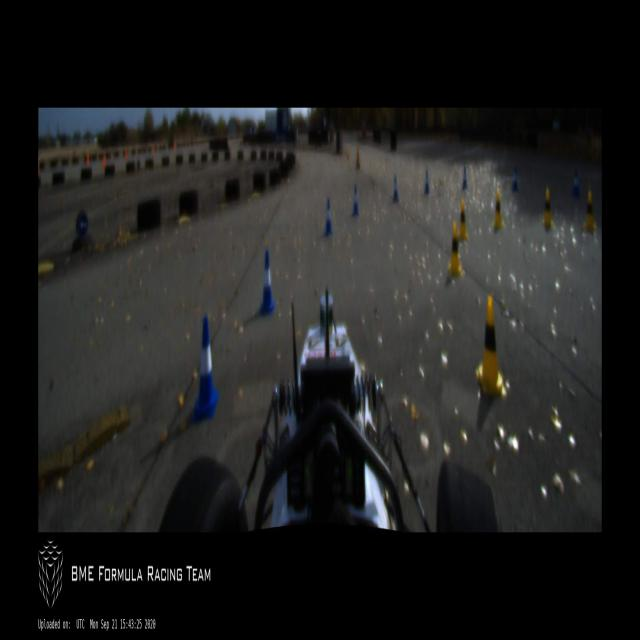blue_cone: (191, 314, 219, 421), (258, 250, 275, 311), (323, 200, 333, 232), (572, 168, 580, 197), (352, 185, 359, 217), (423, 170, 430, 195), (393, 174, 399, 203), (512, 166, 518, 189), (462, 167, 467, 190)
yellow_cone: (476, 296, 507, 396), (448, 221, 462, 274), (541, 188, 553, 228), (492, 190, 503, 228), (457, 202, 468, 238), (585, 192, 595, 230)
